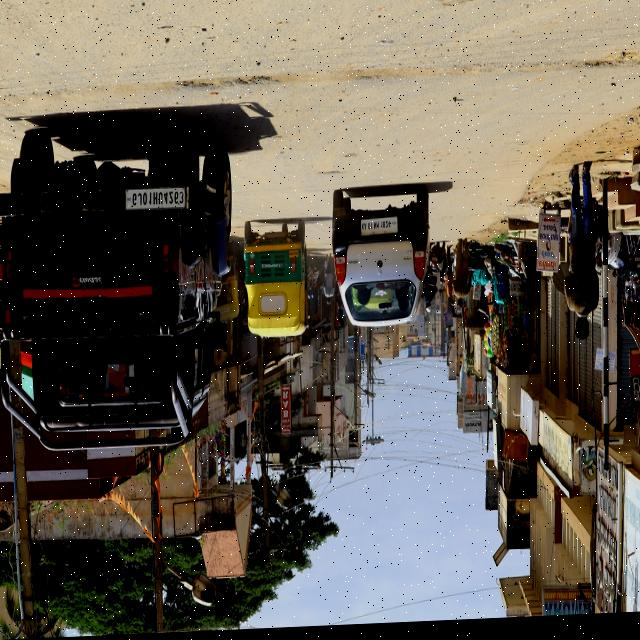plate: (120, 181, 193, 218), (356, 215, 403, 244), (288, 253, 299, 262), (431, 260, 438, 268)
